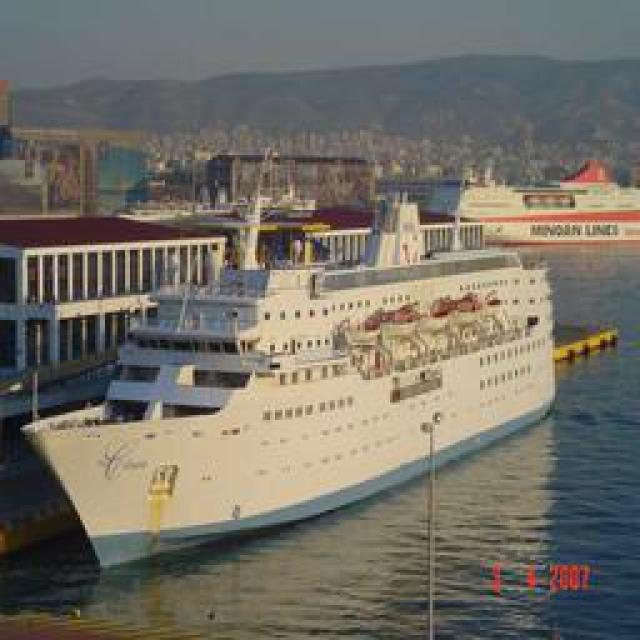Ship: (40, 204, 555, 574)
